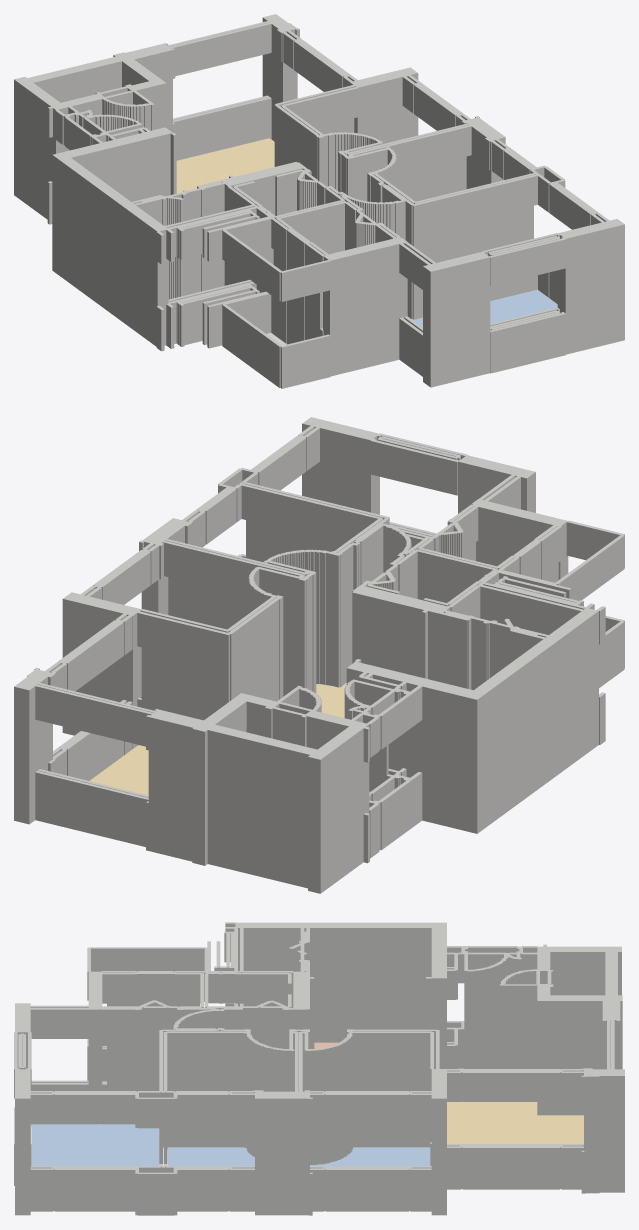
3 views of the same model, one above another, from view 1: azimuth 30°, elevation 25°; view 2: azimuth 150°, elevation 25°; view 3: azimuth 270°, elevation 25° (orthographic). The views are drawn at different scales.
Visible parts, largest first — view 1: walls, room:living:7, room:bedroom:0; view 2: walls, room:living:7; view 3: walls, room:bedroom:0, room:living:7, room:bedroom:6, room:bedroom:3.
Part boxes in pixels (x1,y1,x2,y2): walls: (14,14,624,388); room:living:7: (176,138,274,193); room:bedroom:0: (409,289,557,327); walls: (14,417,624,893); room:living:7: (90,683,346,795); walls: (14,922,624,1215); room:bedroom:0: (32,1124,159,1166); room:living:7: (447,1068,583,1144); room:bedroom:6: (310,1147,430,1166); room:bedroom:3: (167,1147,254,1166).
Bounding box in the file's own units: 9.11 × 2.8 × 13.29.
